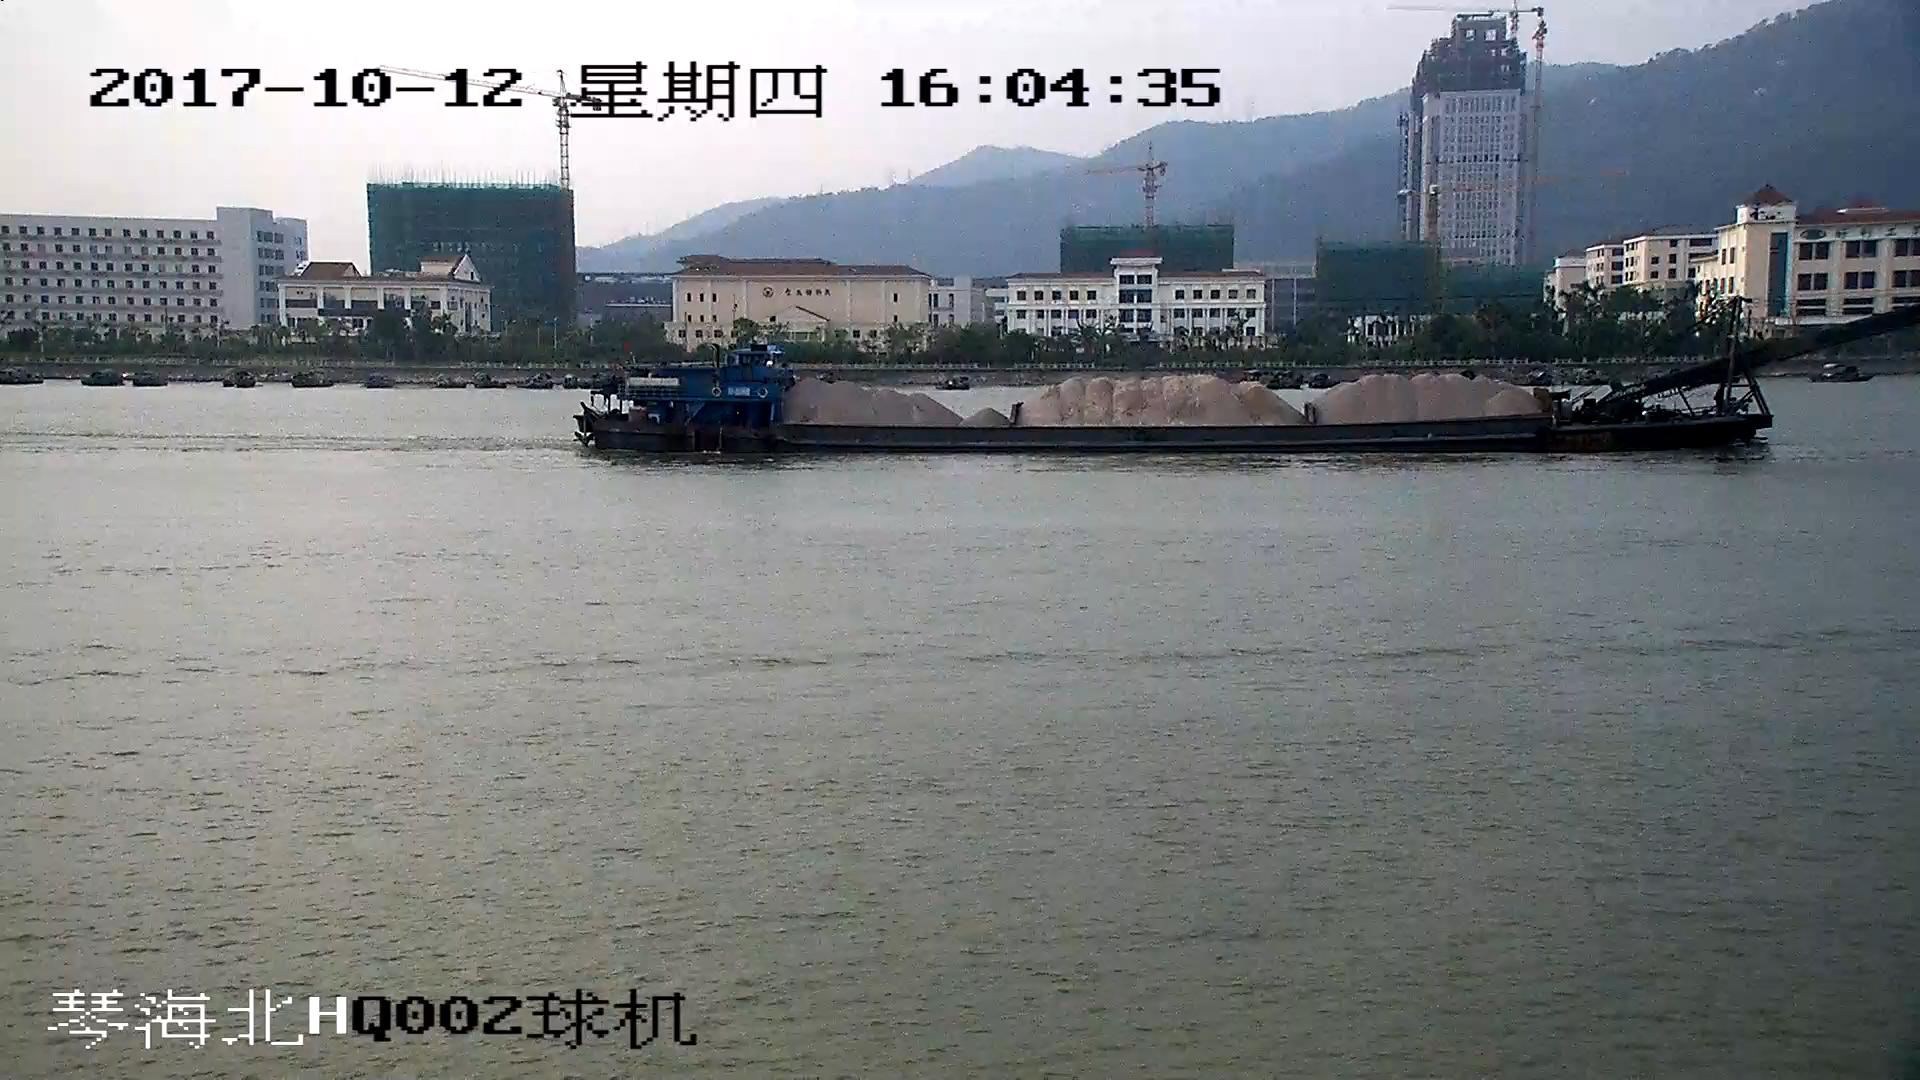ore carrier: (582, 300, 1920, 451)
